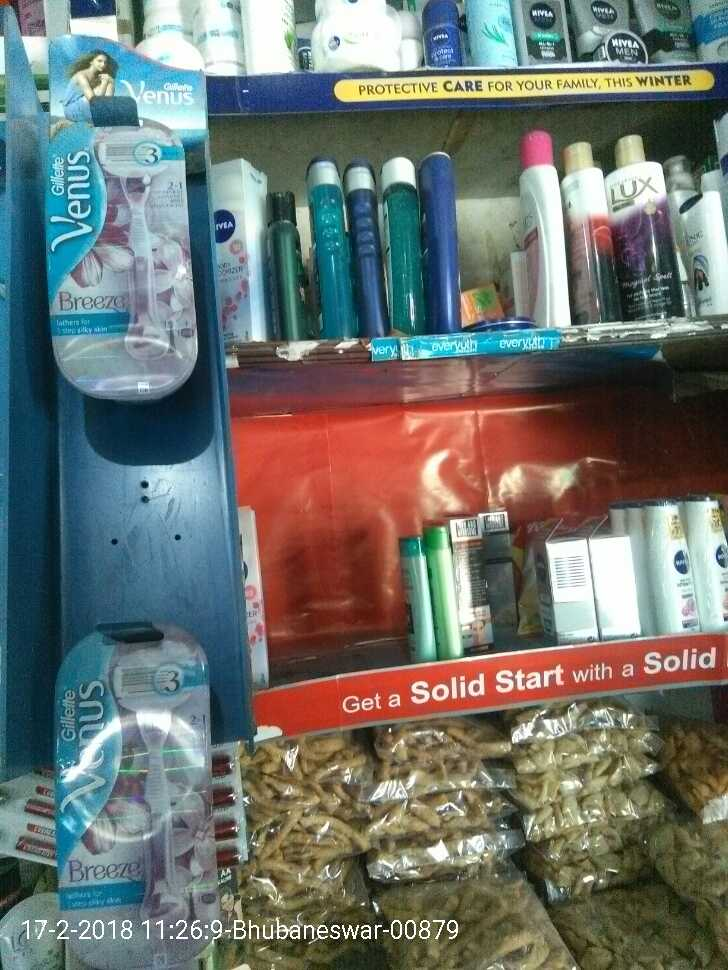venus: (52, 626, 229, 968), (45, 126, 207, 407)
